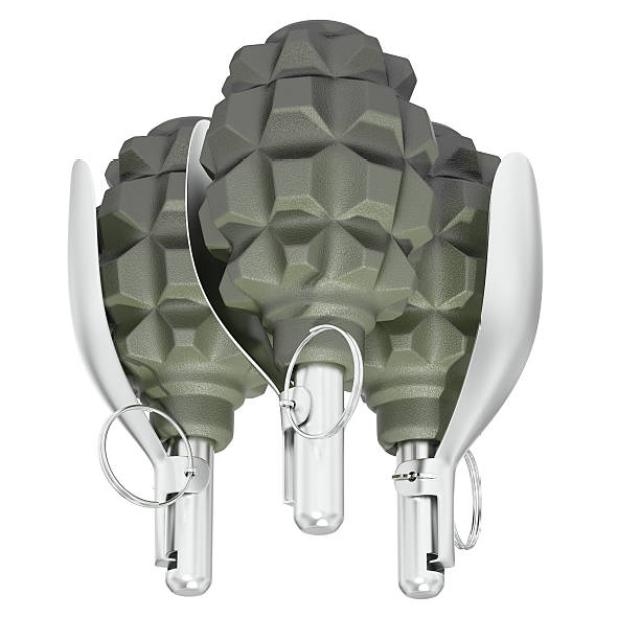grenade: (181, 14, 444, 545), (57, 111, 272, 601), (358, 142, 550, 605)
